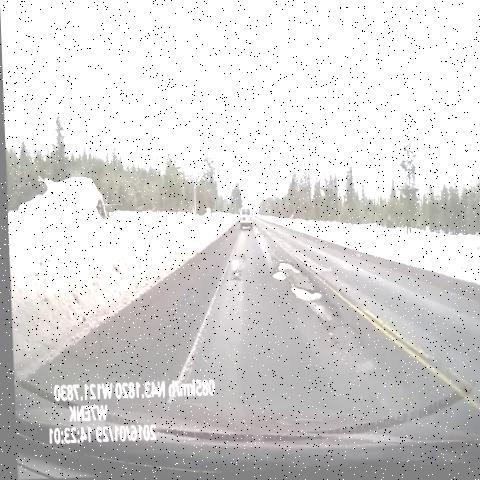pothole: (262, 250, 307, 291), (284, 282, 328, 318), (222, 259, 249, 296), (247, 222, 262, 239), (252, 232, 266, 246)
